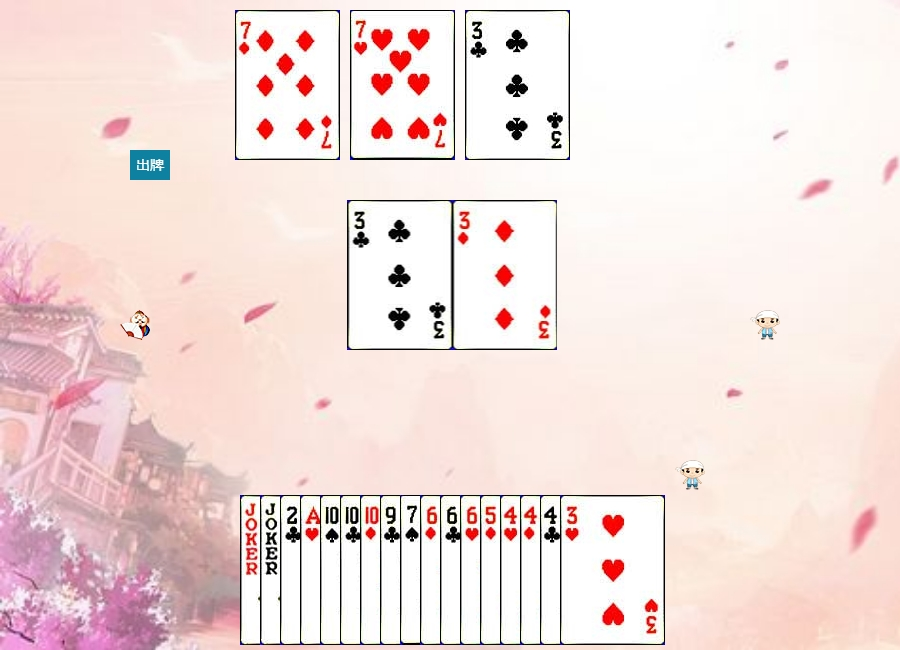10~1: (360, 495, 465, 645)
10~2: (340, 495, 445, 645)
10~4: (320, 495, 425, 645)
14~3: (300, 495, 405, 645)
15~2: (280, 495, 385, 645)
17~3: (260, 495, 365, 645)
18~4: (240, 495, 345, 645)
3~1: (453, 200, 558, 350)
3~2: (465, 10, 570, 160), (348, 200, 453, 350)
3~3: (560, 495, 665, 645)
4~1: (520, 495, 625, 645)
4~2: (540, 495, 645, 645)
4~3: (500, 495, 605, 645)
5~1: (480, 495, 585, 645)
6~1: (420, 495, 525, 645)
6~2: (440, 495, 545, 645)
6~3: (460, 495, 565, 645)
7~1: (235, 10, 340, 160)
7~3: (350, 10, 455, 160)
7~4: (400, 495, 505, 645)
9~2: (380, 495, 485, 645)
